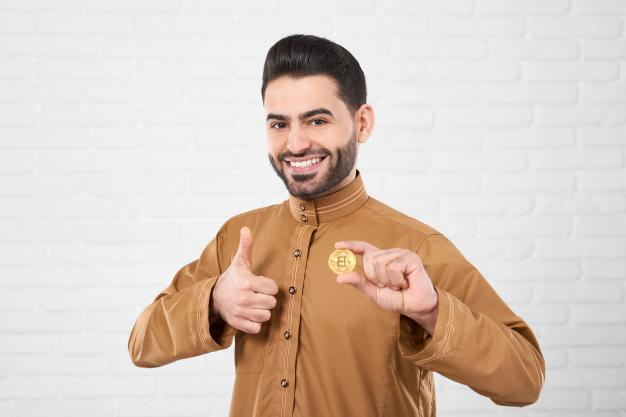thumbsup: (227, 225, 279, 334)
